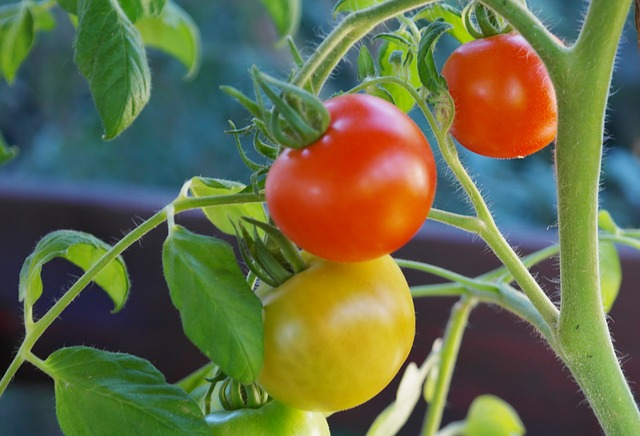stems: (290, 16, 353, 144), (482, 8, 501, 32)
tomato: (263, 94, 433, 264), (240, 251, 416, 411), (434, 26, 581, 156), (184, 394, 337, 436)
